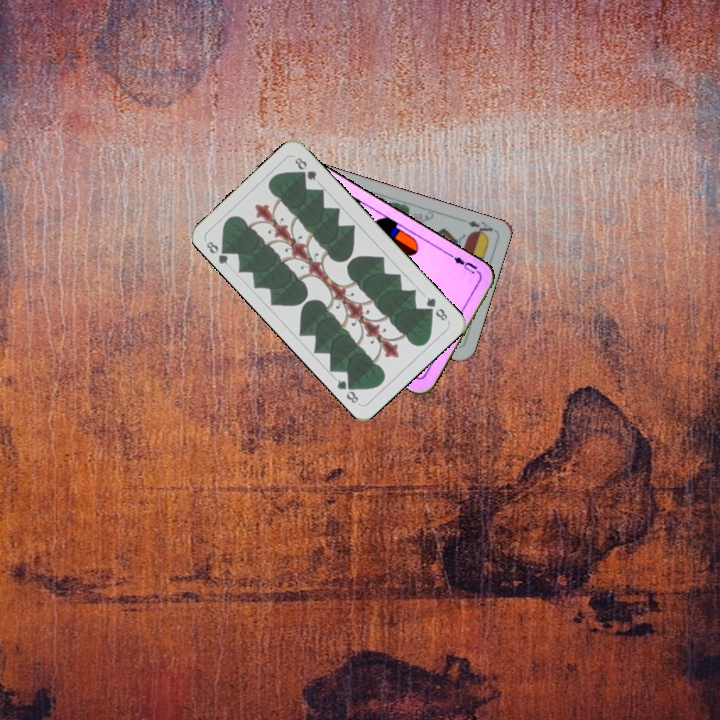EA: (457, 215, 496, 239)
EU: (447, 250, 483, 278)
G8: (202, 237, 233, 267), (422, 293, 450, 324)
